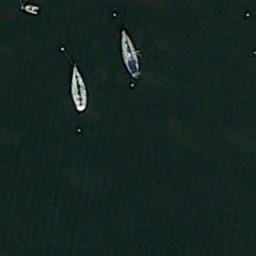boat: (120, 29, 142, 80), (70, 64, 89, 113), (22, 3, 42, 17)
